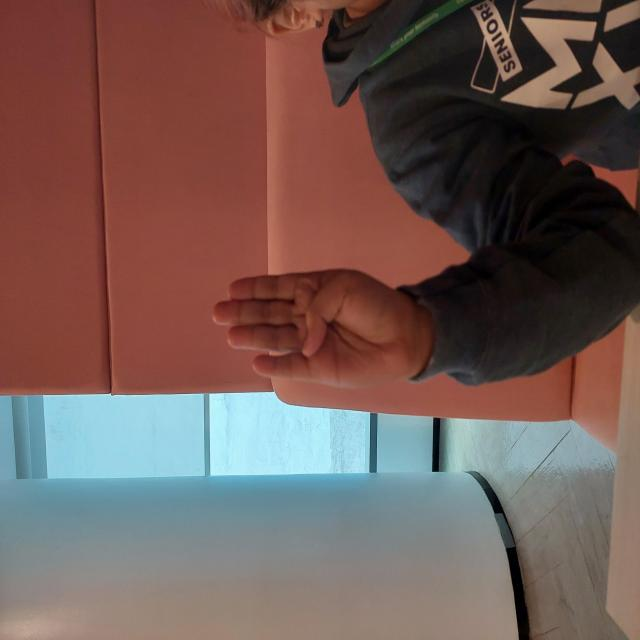B: (248, 207, 380, 421)
